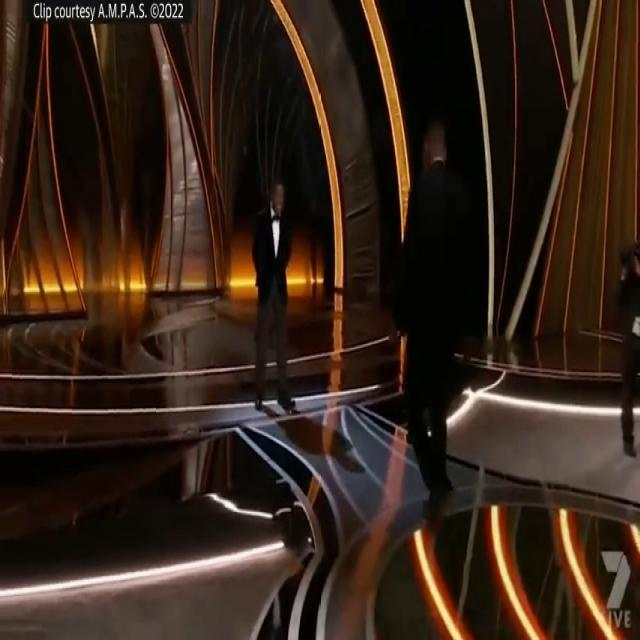non-fight: (376, 106, 486, 509), (247, 177, 305, 420)
